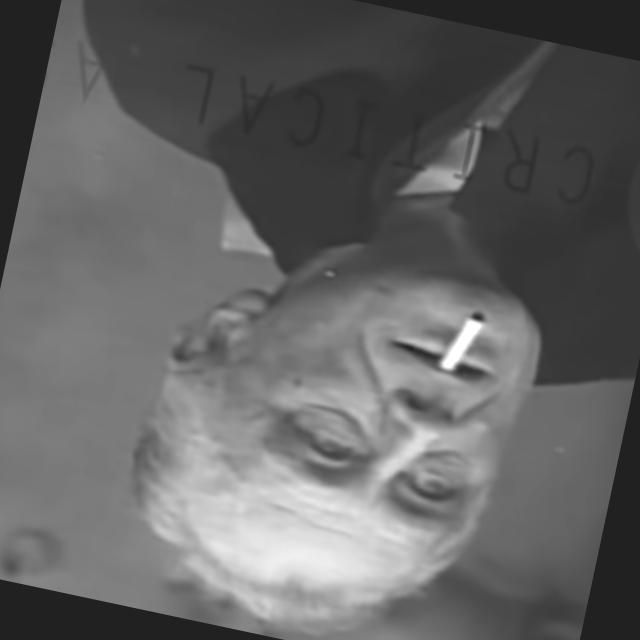smoke: (432, 298, 486, 375)
